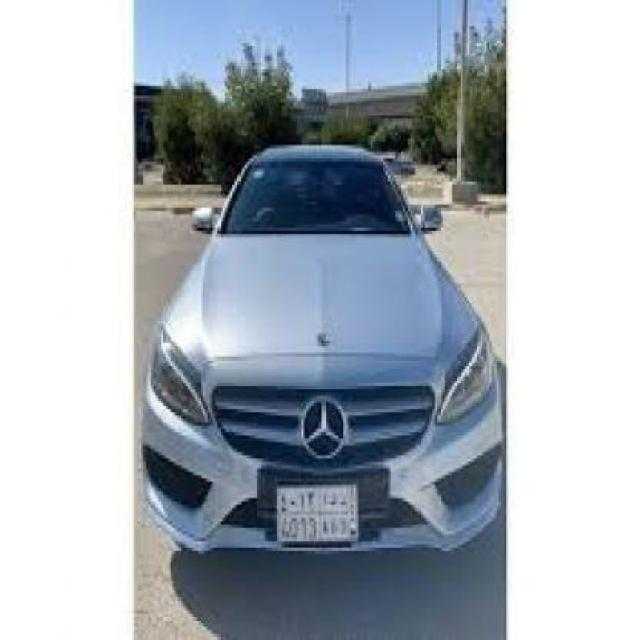license_plate: (274, 482, 363, 544)
